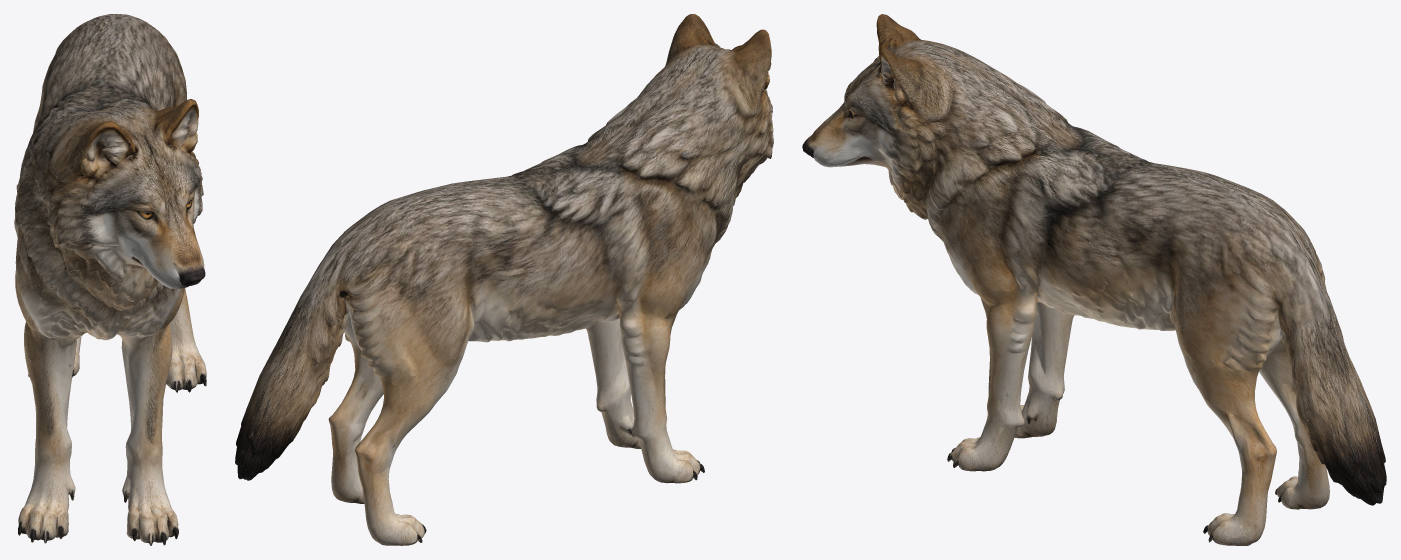
Rendered from wolf.glb.
3 views of the same model, side by side, from view 1: azimuth 30°, elevation 25°; view 2: azimuth 150°, elevation 25°; view 3: azimuth 270°, elevation 25° (orthographic). The views are drawn at different scales.
Parts seen in each view (by area): view 1: wolf; view 2: wolf; view 3: wolf.
Part boxes in pixels (left/top/right/bottom): wolf: left=14, top=14, right=206, bottom=545; wolf: left=235, top=14, right=773, bottom=545; wolf: left=802, top=14, right=1386, bottom=545.
Size of the model in its own units: 1.1 by 1.31 by 1.7.
1 material, 1 textured.
